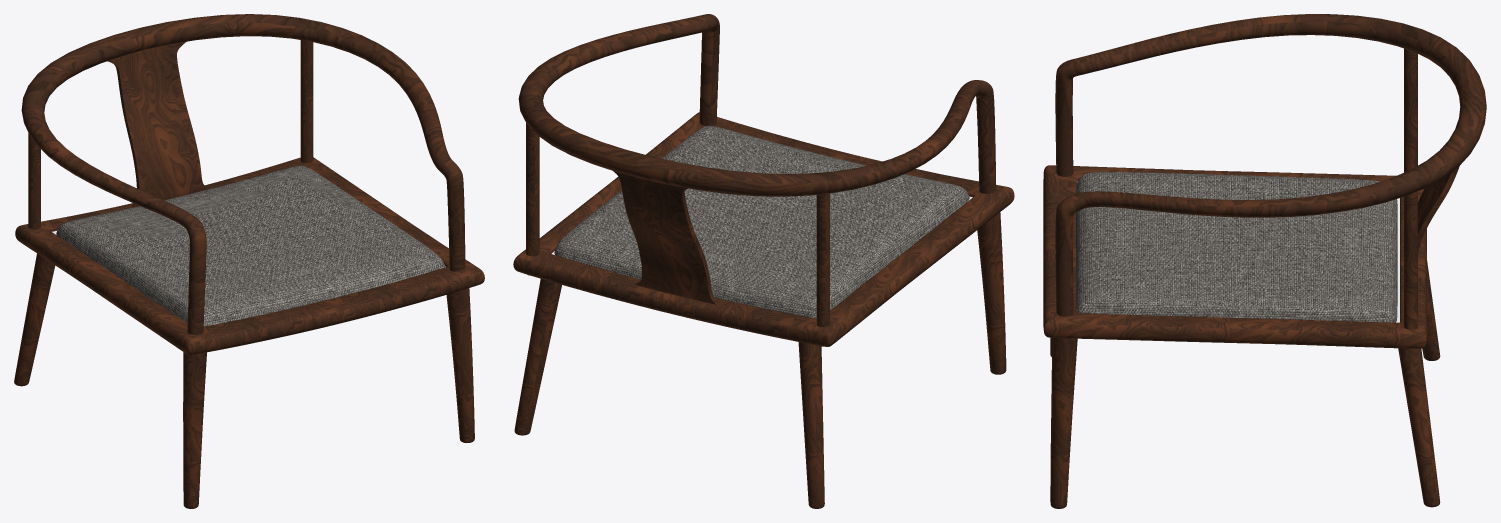
File: dining_chair_chinese_jack_john.glb
3 renders of one model, left to right at view 1: azimuth 30°, elevation 25°; view 2: azimuth 150°, elevation 25°; view 3: azimuth 270°, elevation 25°, orthographic. The views are drawn at different scales.
Parts seen in each view (by area): view 1: Line013_15 - Defaultasg_0, Box025_15 - Default_0; view 2: Line013_15 - Defaultasg_0, Box025_15 - Default_0; view 3: Line013_15 - Defaultasg_0, Box025_15 - Default_0.
Part boxes in pixels (left/top/right/bottom): Line013_15 - Defaultasg_0: left=14, top=14, right=484, bottom=508; Box025_15 - Default_0: left=56, top=165, right=445, bottom=326; Line013_15 - Defaultasg_0: left=513, top=14, right=1014, bottom=508; Box025_15 - Default_0: left=554, top=125, right=969, bottom=318; Line013_15 - Defaultasg_0: left=1043, top=14, right=1486, bottom=508; Box025_15 - Default_0: left=1076, top=172, right=1397, bottom=322.
Size of the model in its own units: 1.01 by 0.8294 by 0.9877.
Materials: 3 (2 with a texture image).
